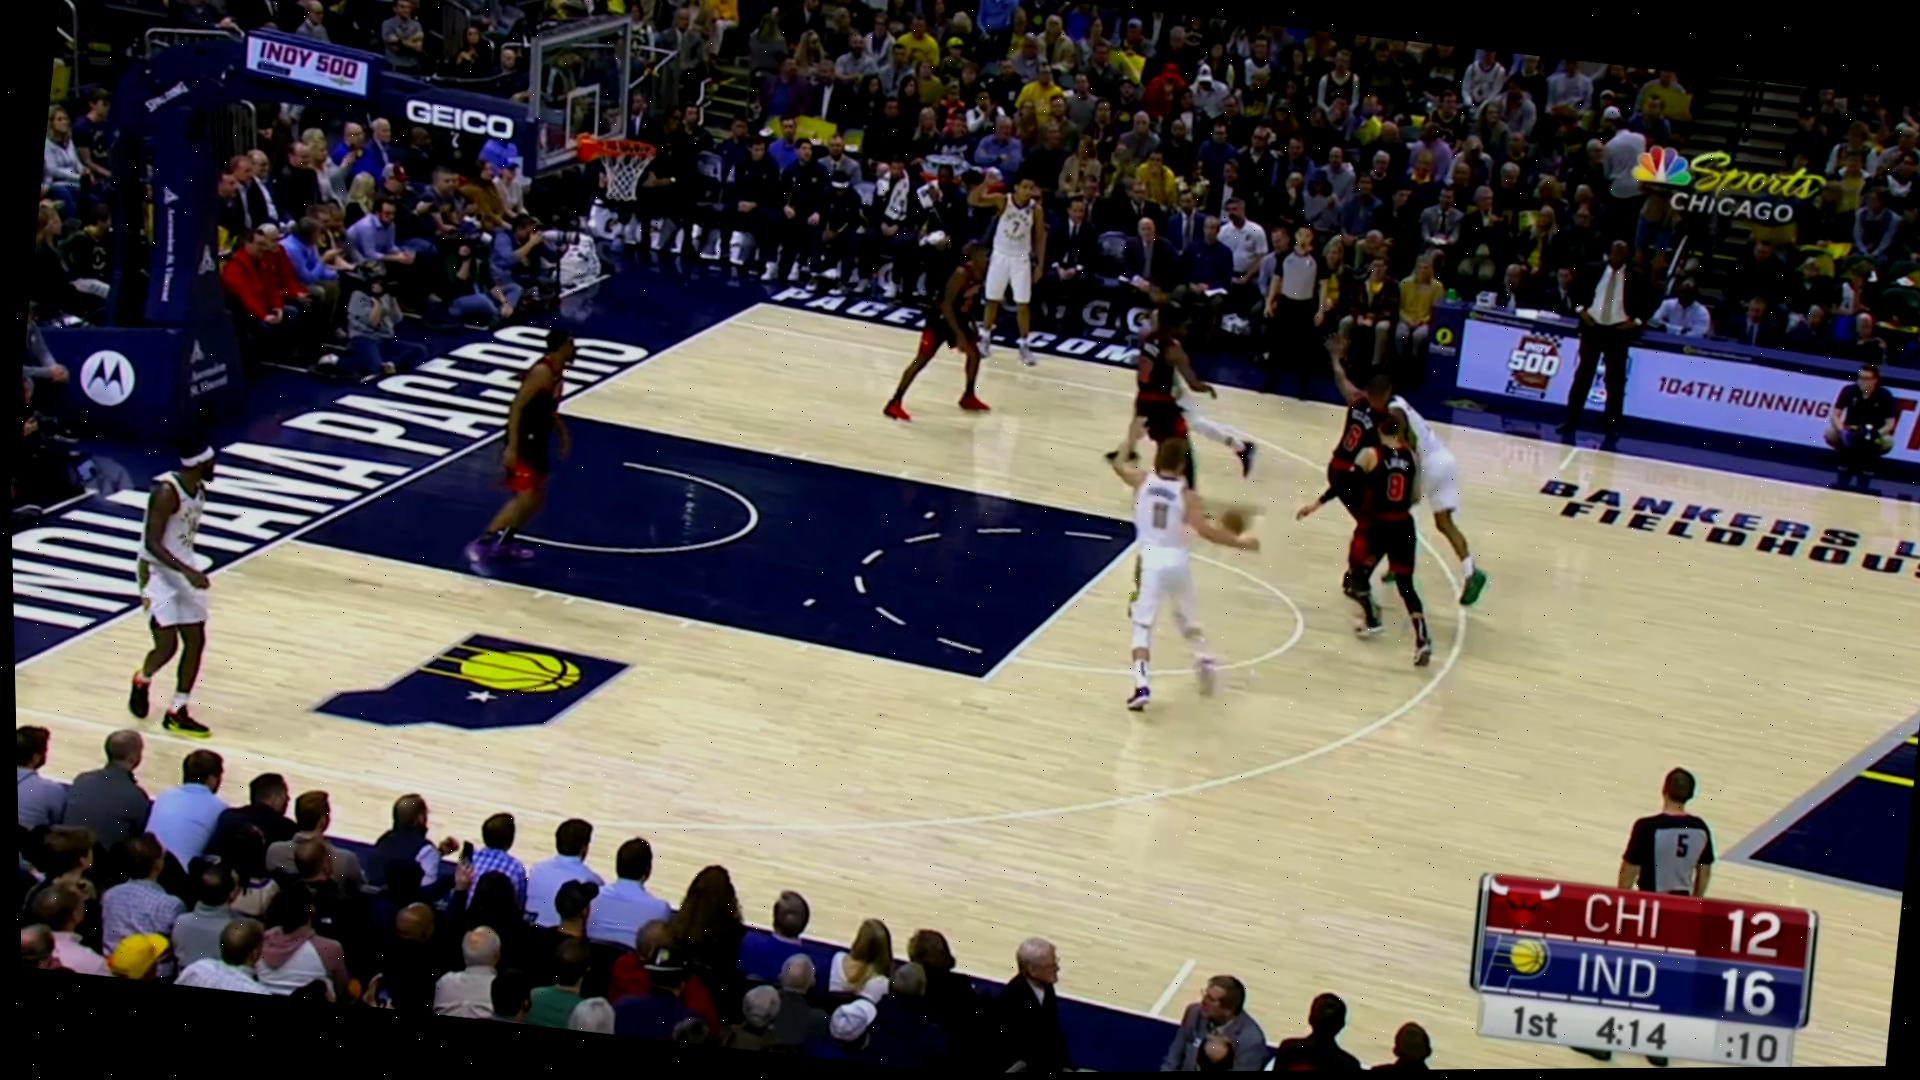no_foul: (1304, 344, 1493, 605)
